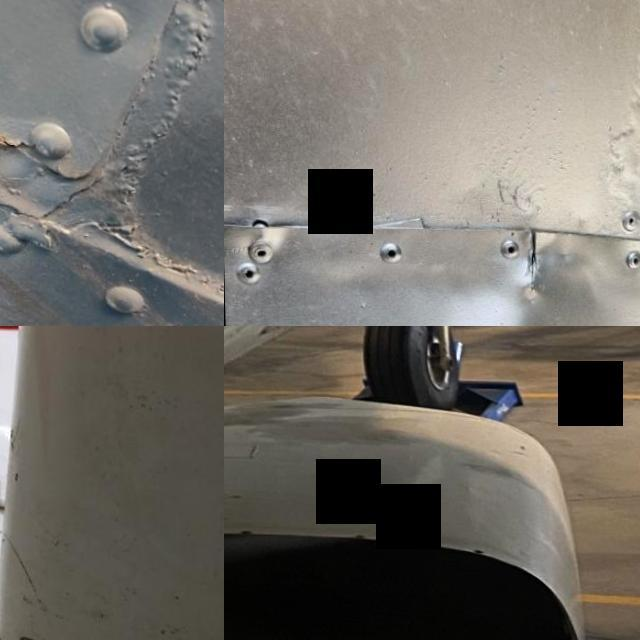Crack: (0, 594, 137, 640), (0, 100, 46, 175), (514, 218, 556, 300)
Dent: (325, 237, 620, 326)
